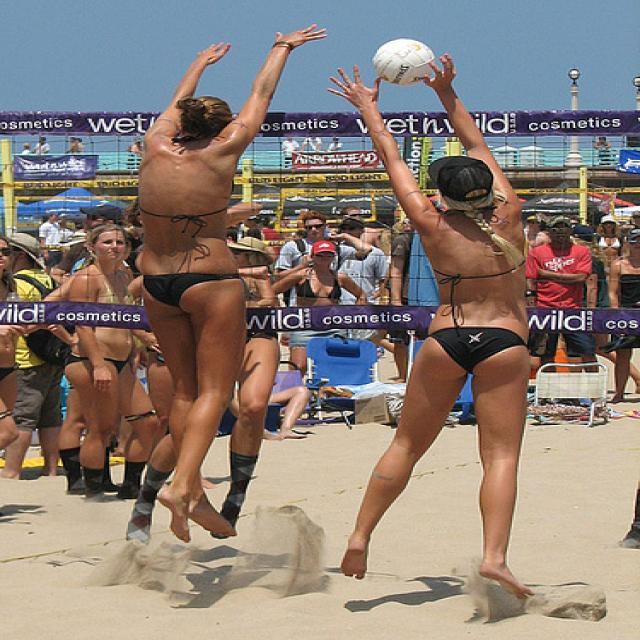volleyball: (373, 38, 435, 86)
